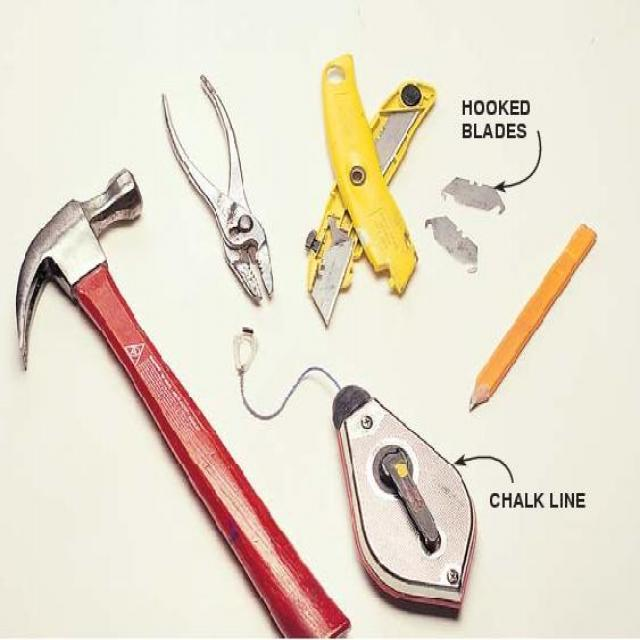hammer: (0, 159, 354, 640)
pliers: (138, 41, 284, 316)
